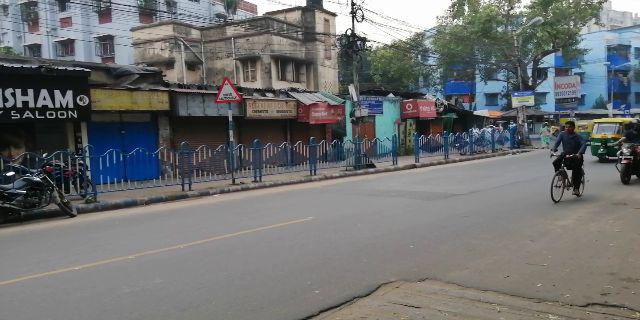Autorickshaw: (592, 118, 626, 162)
Cycle: (545, 118, 592, 202)
